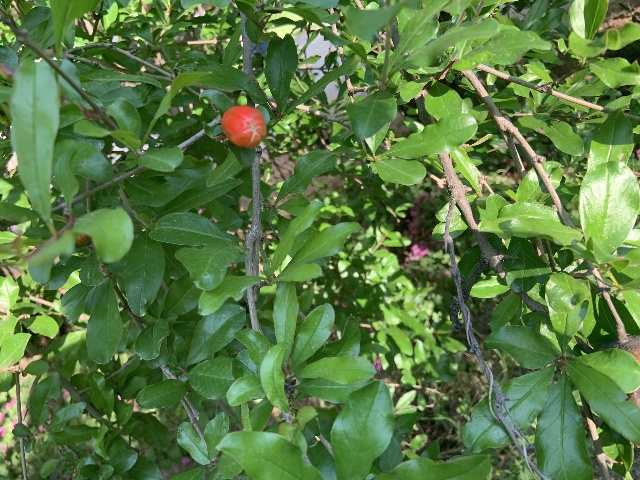bud: (221, 104, 266, 148)
